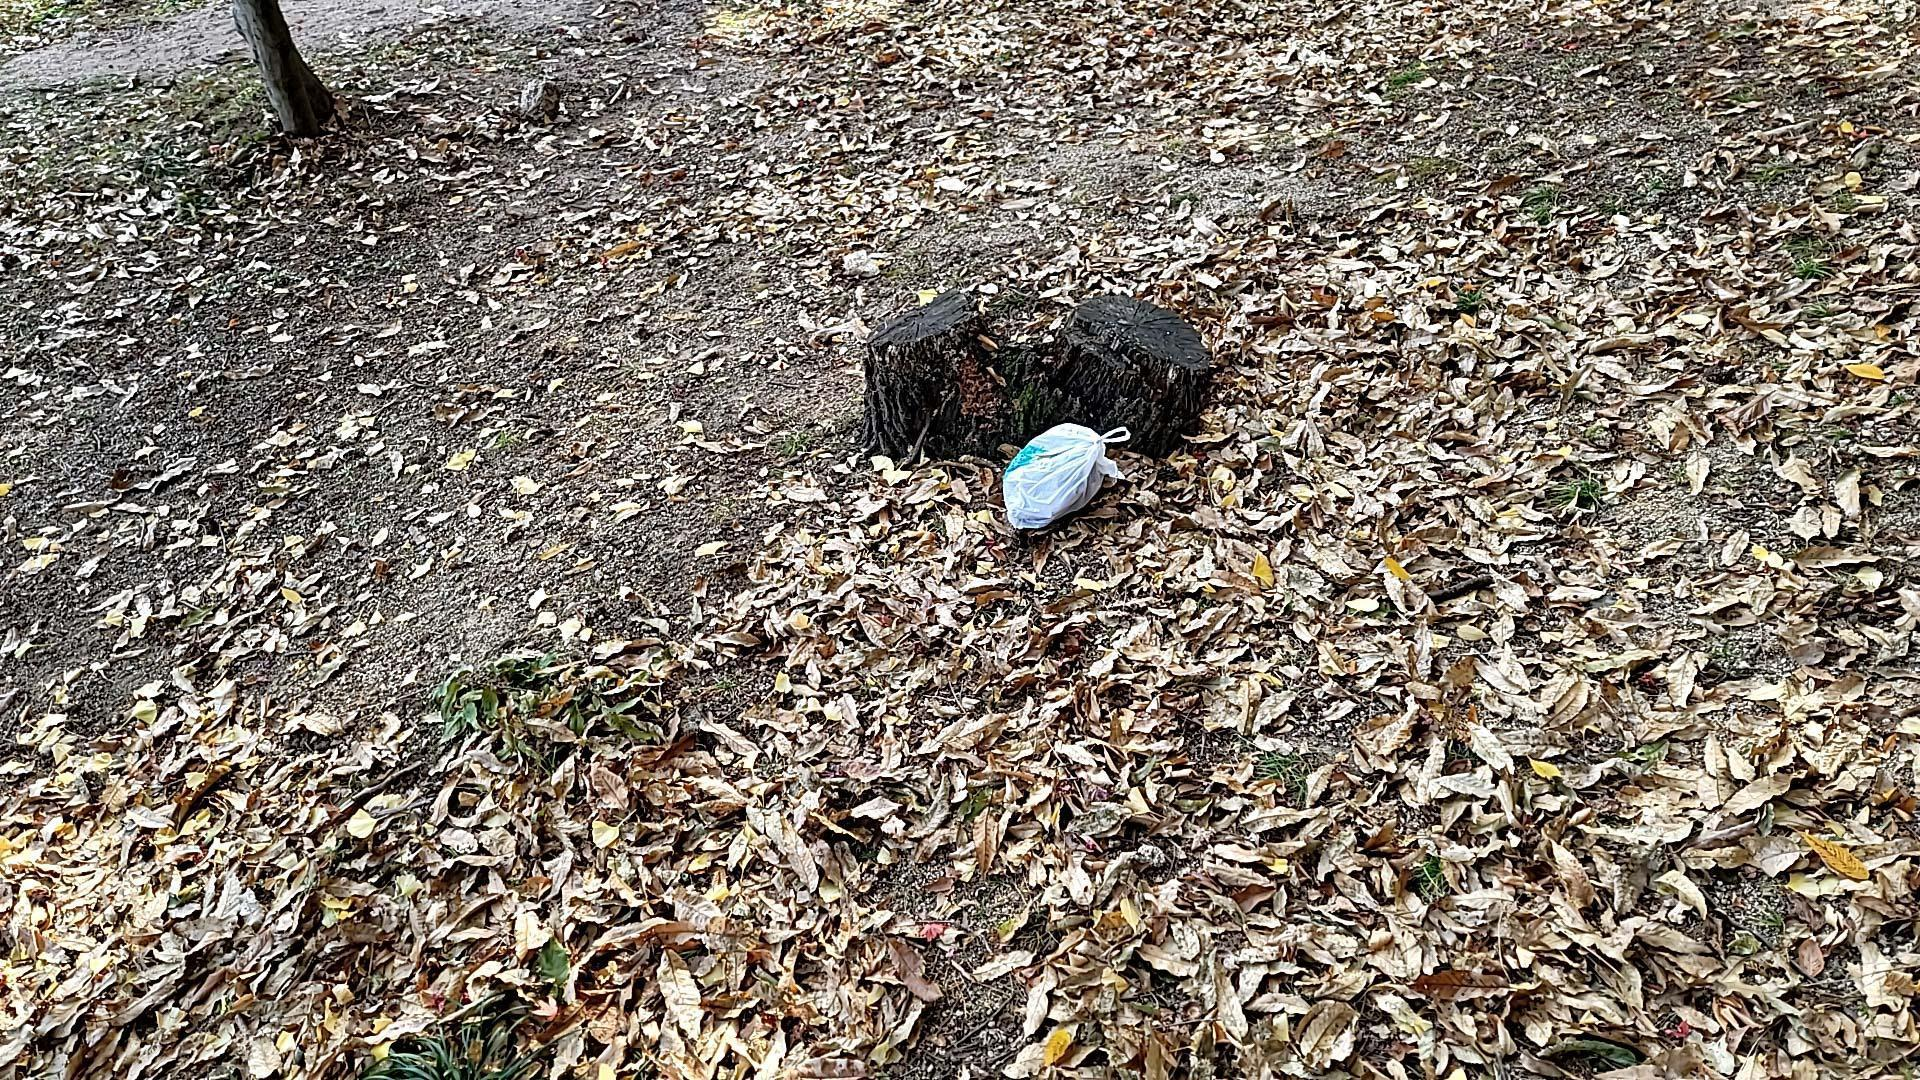white_bag: (989, 409, 1138, 534)
